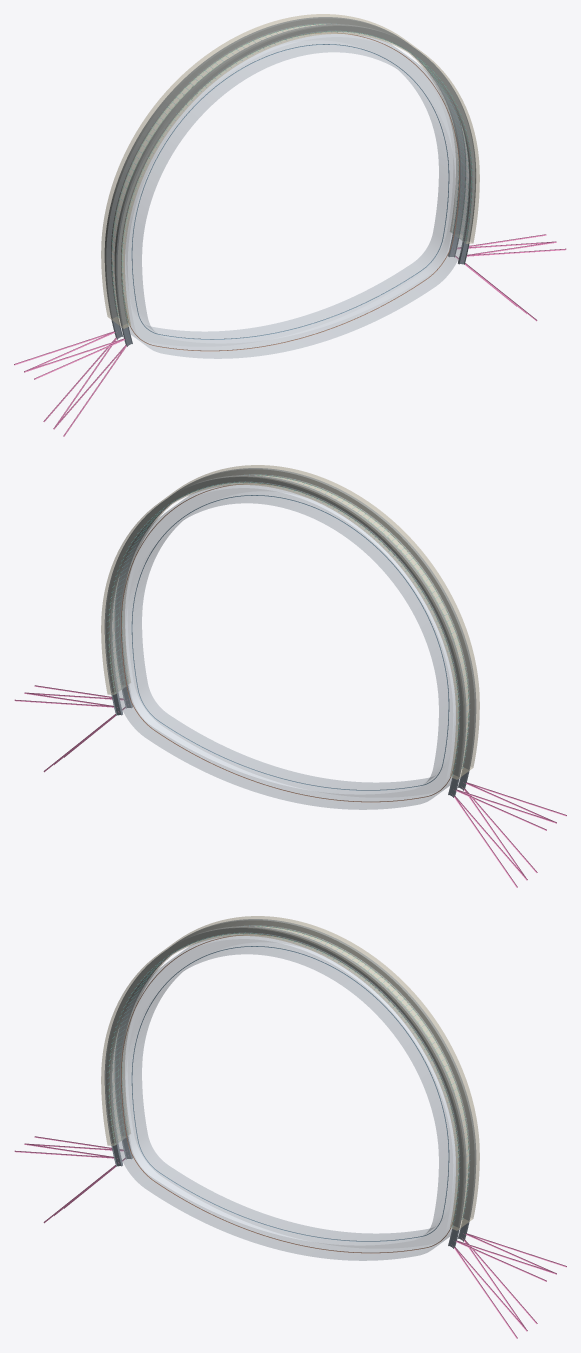
File: ZZ-Vsx_support_1m.glb
The picture shows the model from 3 angles, top to bottom: view 1: azimuth 30°, elevation 25°; view 2: azimuth 150°, elevation 25°; view 3: azimuth 330°, elevation 25°; orthographic projection.
Visible parts, largest first — view 1: secondaryLining, primarySupportConcrete, steelArch_002, steelArch_001, N2, N1; view 2: secondaryLining, primarySupportConcrete, steelArch_001, steelArch_002, N2, N1; view 3: secondaryLining, primarySupportConcrete, steelArch_002, steelArch_001, N2, N1.
Boxes of the visible parts, x1,y1,x2,y2 form: secondaryLining: (112,26,469,358); primarySupportConcrete: (101,14,479,328); steelArch_002: (114,24,476,346); steelArch_001: (104,17,465,339); N2: (131,44,449,339); N1: (126,33,459,351); secondaryLining: (111,477,468,809); primarySupportConcrete: (101,465,479,779); steelArch_001: (104,475,466,797); steelArch_002: (115,468,476,790); N2: (131,495,449,790); N1: (121,484,454,802); secondaryLining: (111,928,468,1260); primarySupportConcrete: (101,916,479,1230); steelArch_002: (104,926,466,1248); steelArch_001: (115,919,476,1241); N2: (131,946,449,1241); N1: (121,935,454,1253).
Size of the model in its own units: 18.7 by 11.64 by 1.25.
